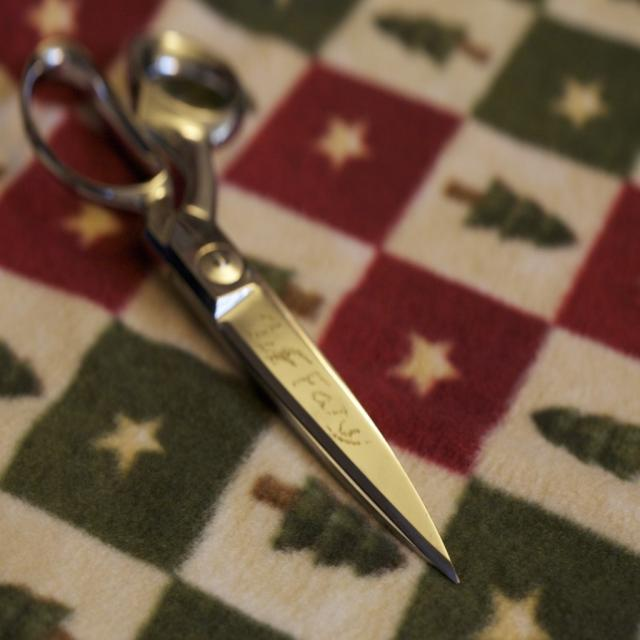scissors: (20, 27, 461, 585)
